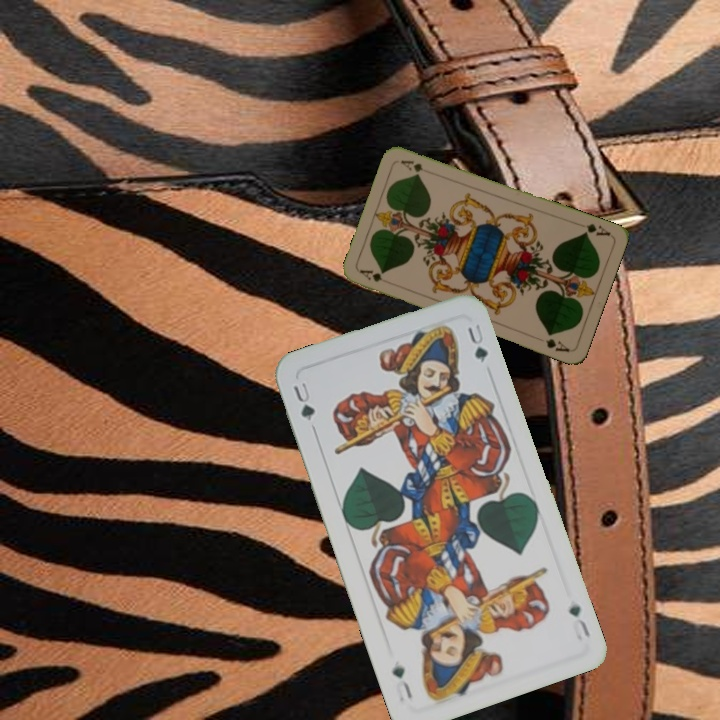GA: (356, 266, 395, 287), (580, 219, 613, 239)
GU: (289, 376, 318, 424), (564, 600, 593, 641)
